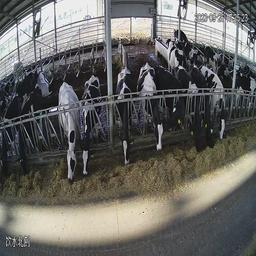cow: (156, 66, 196, 147), (56, 80, 82, 183), (175, 66, 207, 148), (136, 59, 164, 143), (17, 86, 43, 175), (192, 67, 219, 146), (201, 67, 230, 139), (81, 74, 102, 170), (115, 67, 134, 166), (1, 94, 21, 170), (231, 75, 254, 109), (197, 42, 219, 76), (16, 70, 38, 96), (164, 37, 183, 67), (37, 66, 53, 97), (182, 39, 196, 68)
